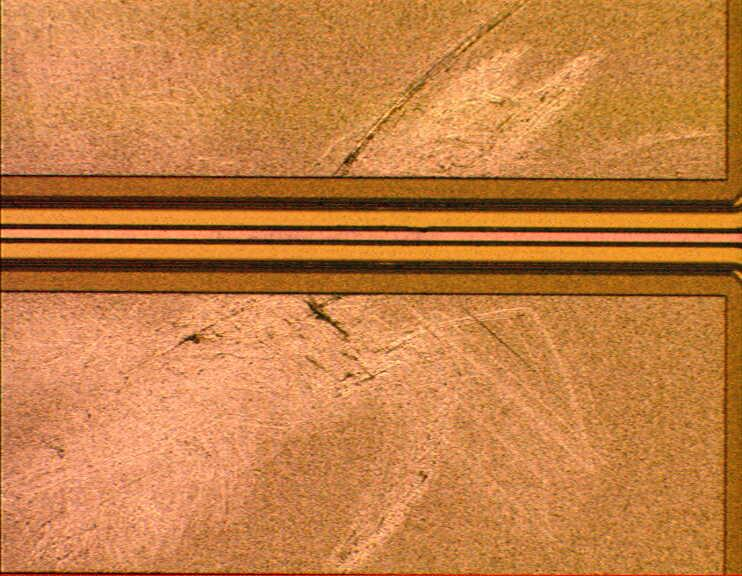SCRATCH: (1, 1, 731, 576)
